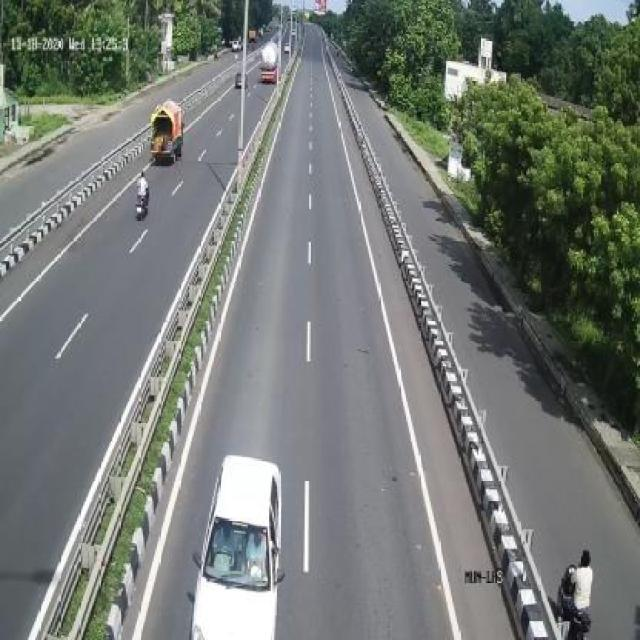car: (194, 455, 286, 640), (151, 97, 186, 168)
